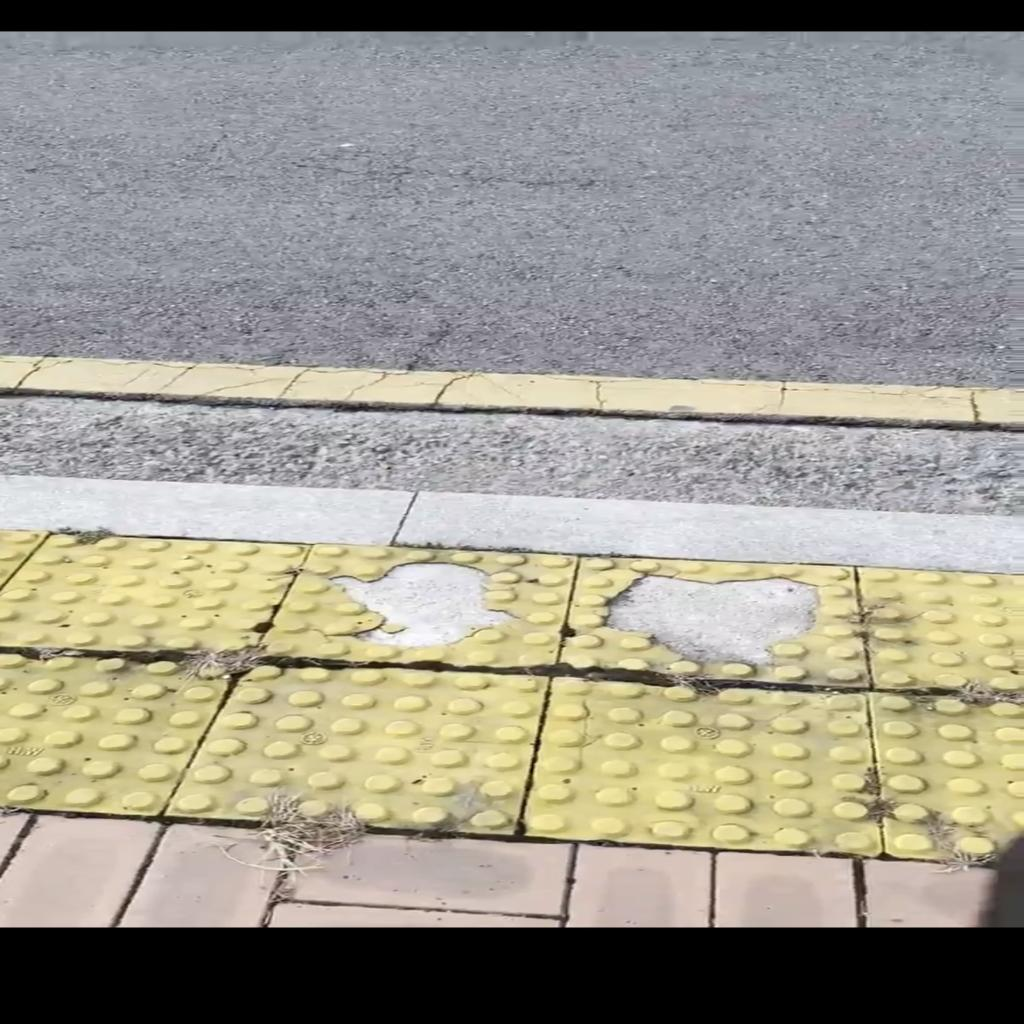Stop block broken: (556, 556, 873, 687), (255, 542, 575, 671)
Stop block normal: (521, 675, 888, 856)
